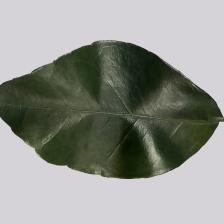healthy: (22, 60, 202, 169)
